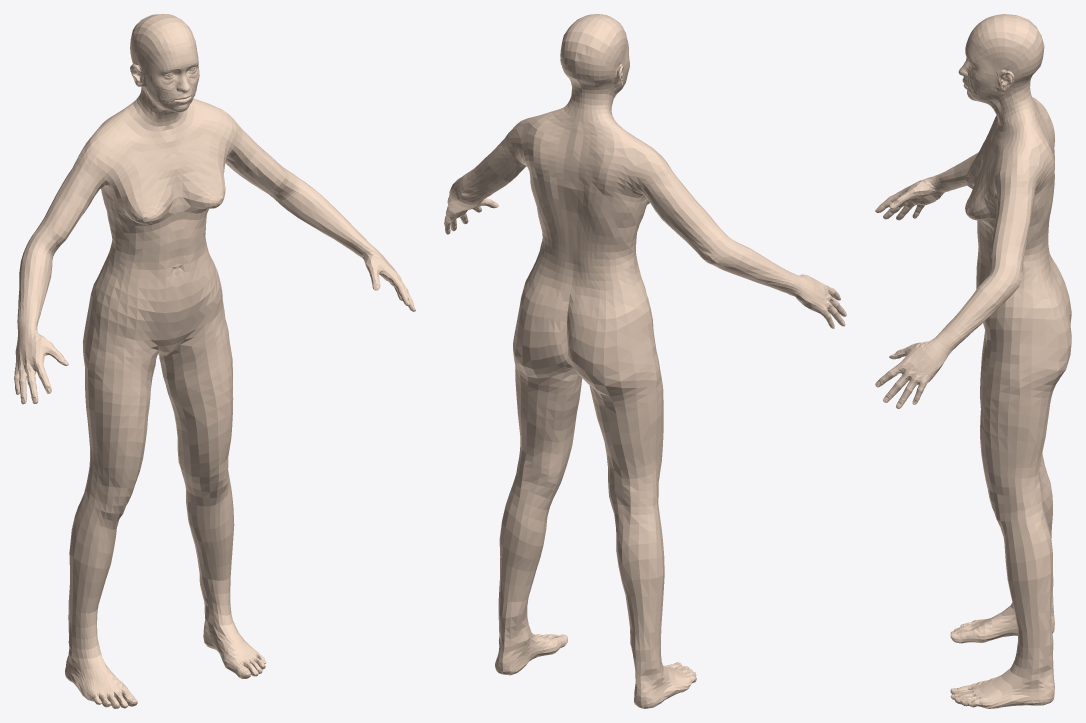
File: female-older-average-strong.glb
3 renders of one model, left to right at view 1: azimuth 30°, elevation 25°; view 2: azimuth 150°, elevation 25°; view 3: azimuth 270°, elevation 25°, orthographic.
Parts seen in each view (by area): view 1: world; view 2: world; view 3: world.
Boxes of the visible parts, <box> form: world: <box>14,14,415,708</box>; world: <box>444,14,846,708</box>; world: <box>875,14,1071,708</box>.
Size of the model in its own units: 1.13 by 1.8 by 0.4922.
